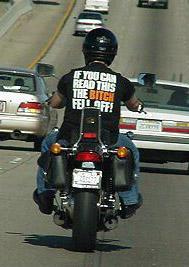person: (32, 29, 144, 221)
